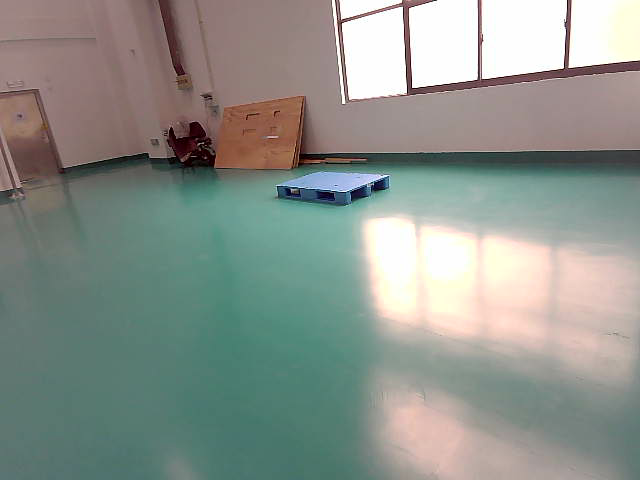block: (335, 190, 352, 204), (301, 189, 318, 200), (276, 185, 289, 197), (365, 183, 371, 197), (383, 176, 389, 189)
front: (345, 176, 389, 205)
hole pallet: (351, 187, 366, 202), (371, 180, 384, 194)
